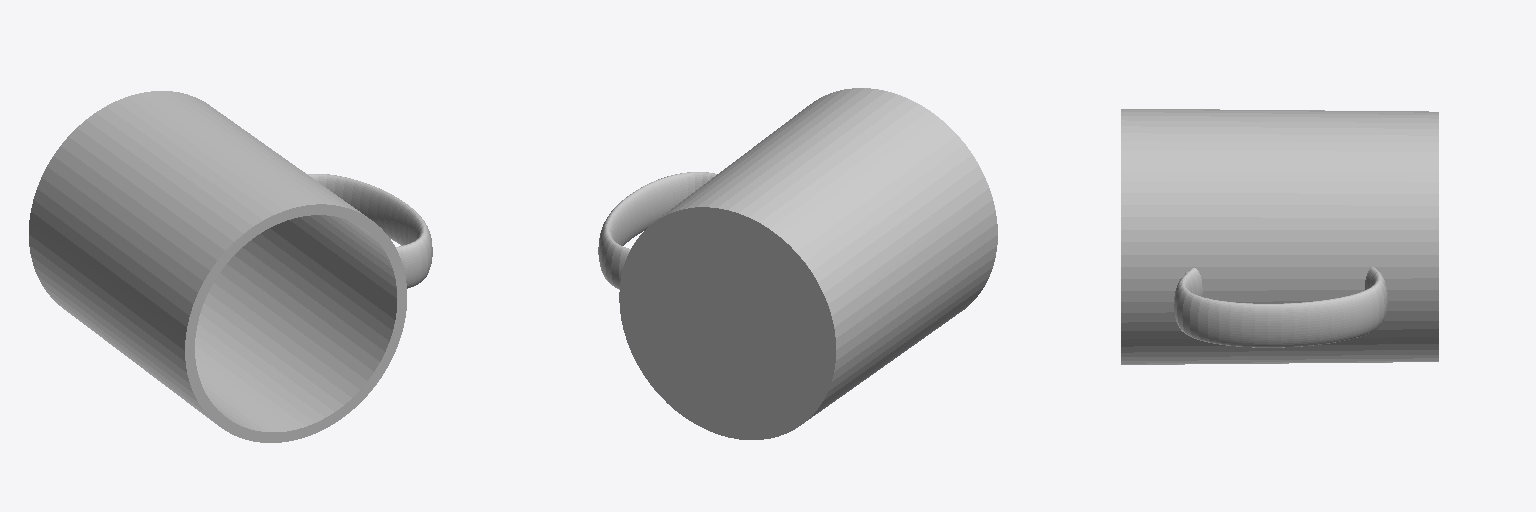
The model's file is intel_cup.obj.
3 views of the same model, side by side, from view 1: azimuth 30°, elevation 25°; view 2: azimuth 150°, elevation 25°; view 3: azimuth 270°, elevation 25° (orthographic).
Parts seen in each view (by area): view 1: Cylinder, BezierCurve; view 2: Cylinder, BezierCurve; view 3: Cylinder, BezierCurve.
Boxes of the visible parts, box(x1,y1,x2,y2) form: Cylinder: box(29, 91, 406, 442); BezierCurve: box(307, 174, 432, 288); Cylinder: box(619, 88, 997, 439); BezierCurve: box(598, 172, 716, 289); Cylinder: box(1121, 109, 1438, 364); BezierCurve: box(1174, 267, 1387, 347).
Size of the model in its own units: 0.1137 by 0.084 by 0.104.